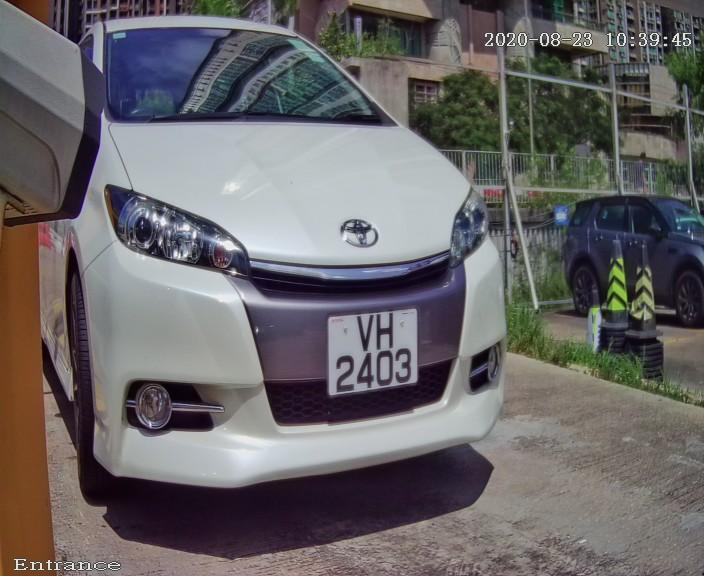License Plate: (318, 289, 422, 407)
